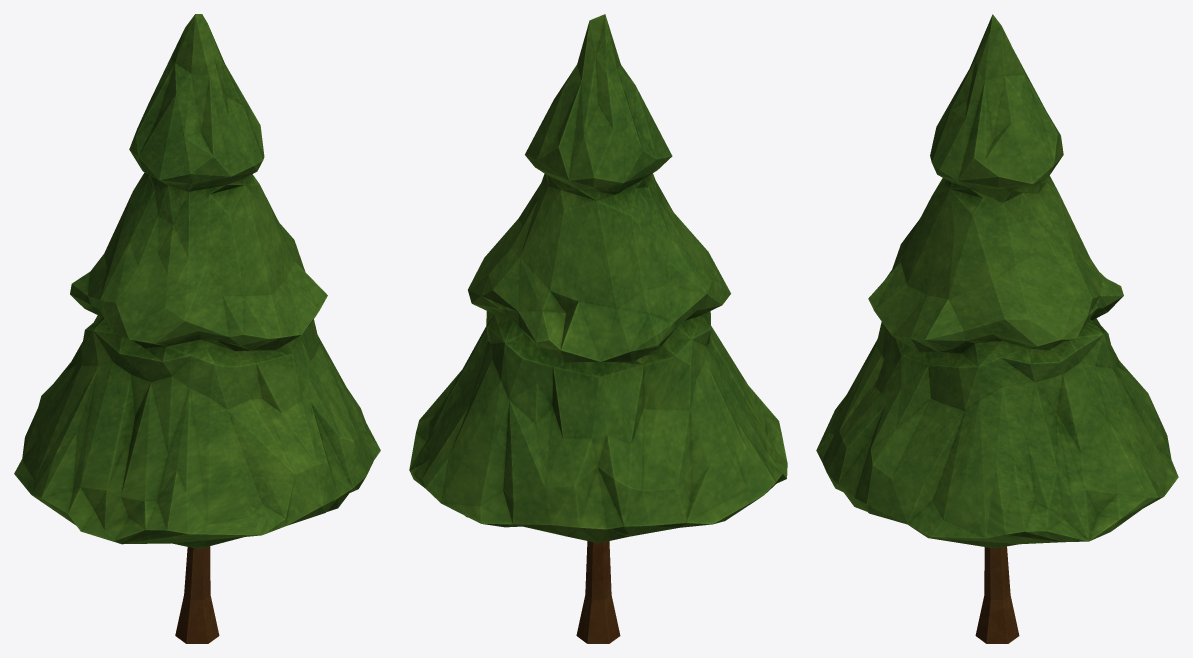
Rendered from TreeE-Ep3.fbx.
3 renders of one model, left to right at view 1: azimuth 30°, elevation 25°; view 2: azimuth 150°, elevation 25°; view 3: azimuth 270°, elevation 25°, orthographic.
Visible parts, largest first — view 1: TreeE; view 2: TreeE; view 3: TreeE.
Part boxes in pixels (box(x1,y1,x2,y2)): TreeE: box(14, 14, 380, 643); TreeE: box(409, 14, 787, 643); TreeE: box(816, 14, 1178, 643).
Size of the model in its own units: 1979 by 3530 by 1871.
